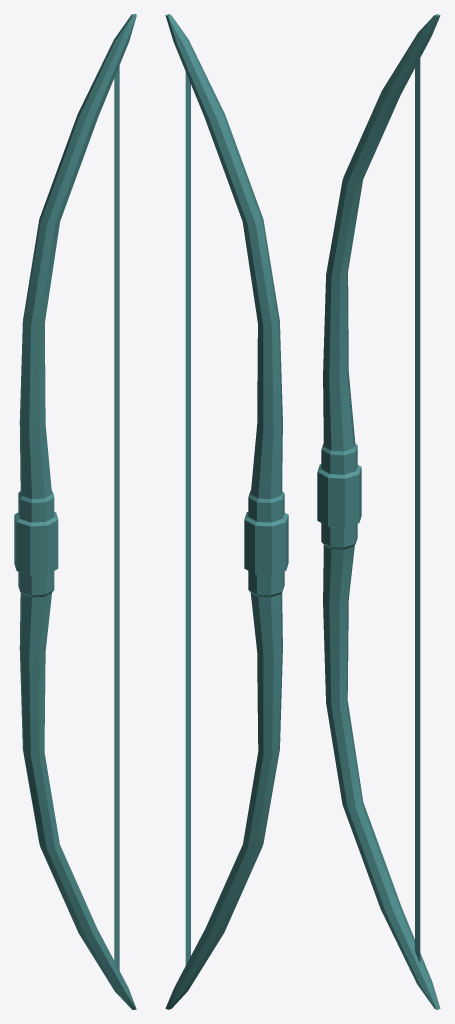
File: Bow_2.fbx
The picture shows the model from 3 angles, left to right: view 1: azimuth 30°, elevation 25°; view 2: azimuth 150°, elevation 25°; view 3: azimuth 330°, elevation 25°; orthographic projection.
Parts seen in each view (by area): view 1: L3; view 2: L3; view 3: L3.
Part boxes in pixels (x1,y1,x2,y2): L3: (14,14,136,1009); L3: (165,14,288,1009); L3: (317,14,440,1009).
Size of the model in its own units: 20.49 by 162 by 6.76.
